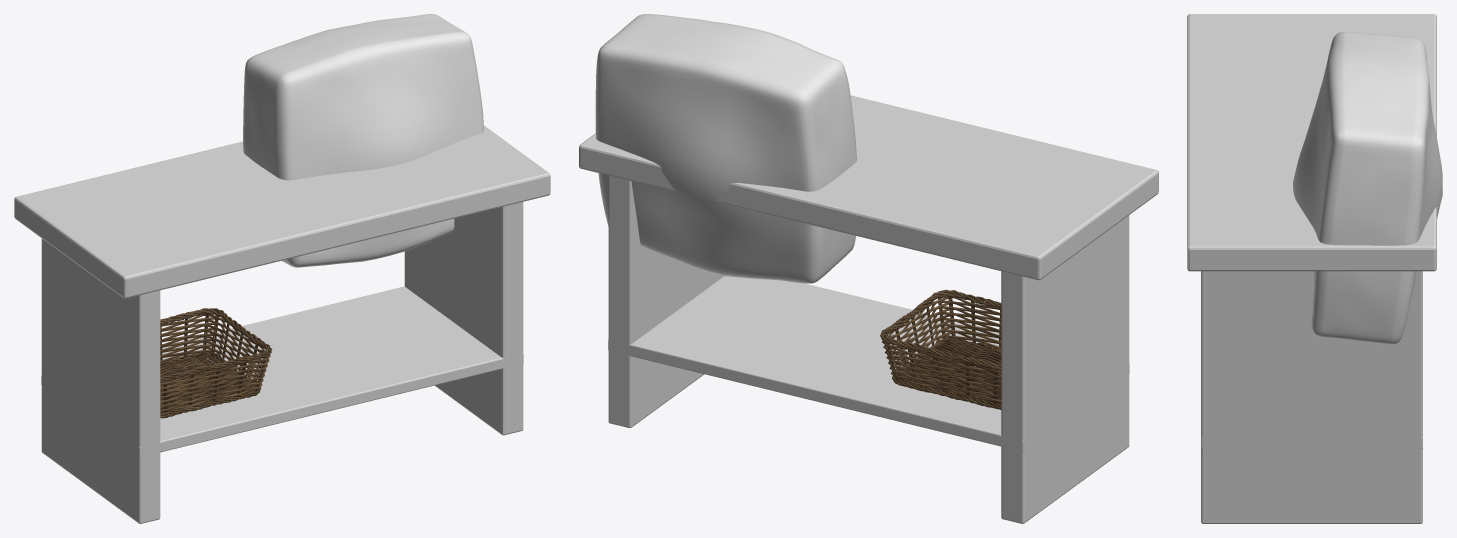
File: hall_bench__1.glb
The picture shows the model from 3 angles, left to right: view 1: azimuth 30°, elevation 25°; view 2: azimuth 150°, elevation 25°; view 3: azimuth 270°, elevation 25°; orthographic projection. The views are drawn at different scales.
Visible parts, largest first — view 1: bench top, pillow.001, bench leg, bench shelf, bench leg.001, wicker_basket_01.002; view 2: pillow.001, bench top, bench shelf, bench leg, bench leg.001, wicker_basket_01.002; view 3: bench leg.001, bench top, pillow.001.
Part boxes in pixels (x1,y1,x2,y2): bench top: (14,125,550,298); pillow.001: (243,14,483,267); bench leg: (41,238,160,523); bench shelf: (41,286,523,456); bench leg.001: (404,202,523,435); wicker_basket_01.002: (160,308,272,418); pillow.001: (595,14,856,283); bench top: (579,95,1158,280); bench shelf: (608,276,1129,451); bench leg: (1001,215,1129,523); bench leg.001: (608,175,723,427); wicker_basket_01.002: (880,289,1001,409); bench leg.001: (1201,271,1422,523); bench top: (1187,14,1436,271); pillow.001: (1293,31,1442,344).
Bounding box in the file's own units: 0.8 × 0.6479 × 0.3685.
Materials: 3 (1 with a texture image).
